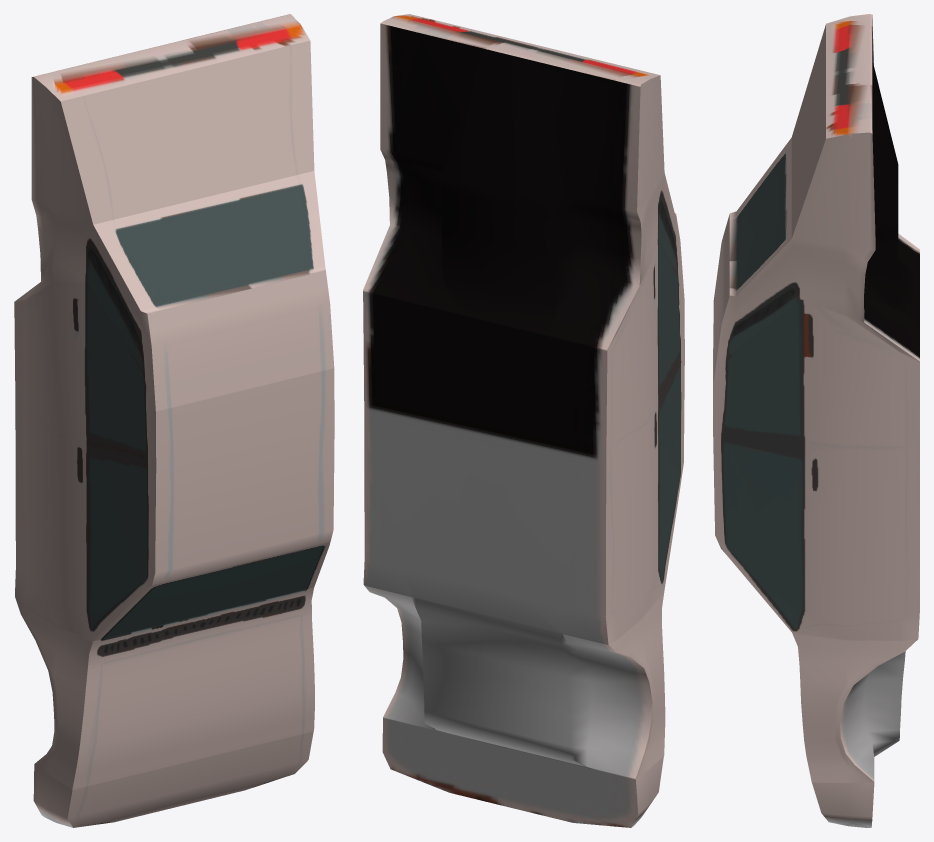
Rendered from kit-15.glb.
The picture shows the model from 3 angles, left to right: view 1: azimuth 30°, elevation 25°; view 2: azimuth 150°, elevation 25°; view 3: azimuth 270°, elevation 25°; orthographic projection. The views are drawn at different scales.
Parts seen in each view (by area): view 1: Object_27; view 2: Object_27; view 3: Object_27.
Part boxes in pixels (bbox=[...]): Object_27: bbox=[14, 14, 334, 827]; Object_27: bbox=[363, 14, 684, 827]; Object_27: bbox=[713, 14, 919, 827].
Bounding box in the file's own units: 2.07 × 5.75 × 1.52.
1 material, 1 textured.
